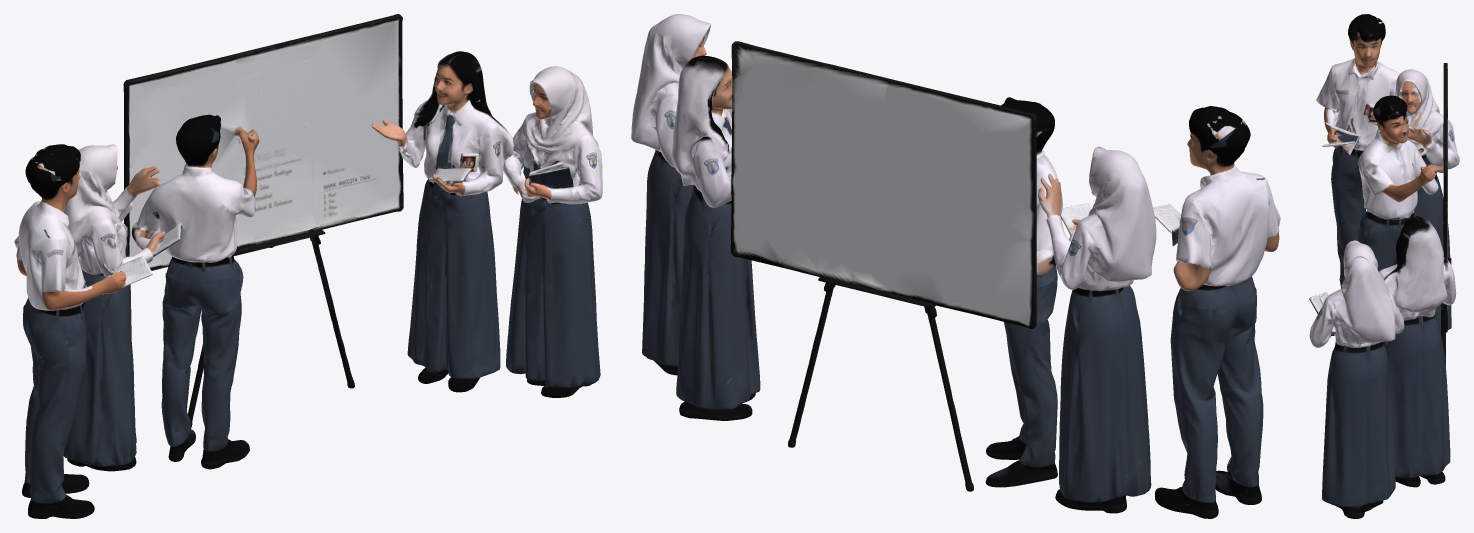
File: 5__Kolaborasi_final.glb
3 views of the same model, side by side, from view 1: azimuth 30°, elevation 25°; view 2: azimuth 150°, elevation 25°; view 3: azimuth 270°, elevation 25° (orthographic). The views are drawn at different scales.
Parts seen in each view (by area): view 1: mesh_node; view 2: mesh_node; view 3: mesh_node.
Part boxes in pixels (x1=…): mesh_node: x1=14, y1=14, x2=602, y2=518; mesh_node: x1=631, y1=14, x2=1280, y2=518; mesh_node: x1=1309, y1=14, x2=1459, y2=518.
Size of the model in its own units: 1.9 by 1.16 by 0.5348.
1 material, 1 textured.
